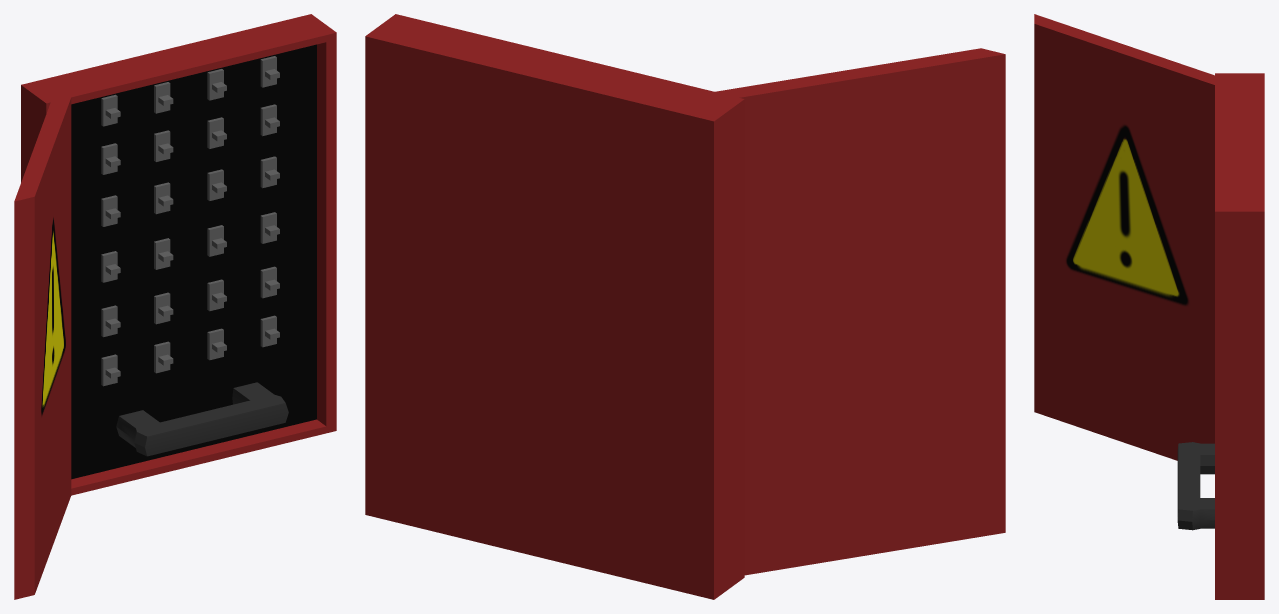
The model's file is Breaker.glb.
3 renders of one model, left to right at view 1: azimuth 30°, elevation 25°; view 2: azimuth 150°, elevation 25°; view 3: azimuth 270°, elevation 25°, orthographic. The views are drawn at different scales.
Parts seen in each view (by area): view 1: Cube, Cube.001, Cube.008, Cube.004, Cube.014, Cube.020, Cube.005, Cube.009, Cube.011, Cube.012, Cube.015, Cube.017 (+14 smaller); view 2: Cube; view 3: Cube, Cube.001.
Part boxes in pixels (x1,y1,x2,y2): Cube: [14, 14, 336, 599]; Cube.001: [116, 382, 288, 456]; Cube.008: [207, 279, 226, 311]; Cube.004: [207, 328, 226, 360]; Cube.014: [101, 195, 120, 226]; Cube.020: [207, 117, 226, 148]; Cube.005: [260, 315, 279, 347]; Cube.009: [260, 266, 279, 298]; Cube.011: [154, 238, 173, 269]; Cube.012: [207, 225, 226, 256]; Cube.015: [154, 182, 173, 214]; Cube.017: [260, 156, 279, 188]; Cube: [365, 14, 1005, 599]; Cube: [1034, 14, 1264, 599]; Cube.001: [1177, 442, 1214, 530].
Bounding box in the file's own units: 0.4783 × 0.4384 × 0.2355.
Materials: 4 (1 with a texture image).
